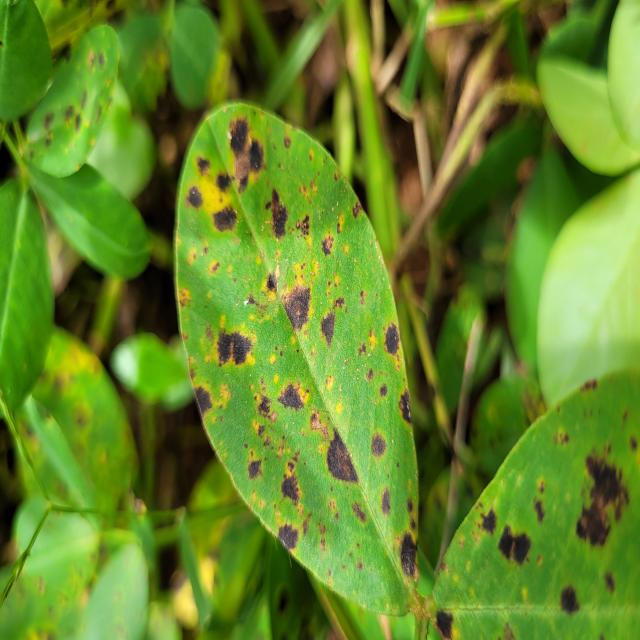Ground nut_healthy: (22, 151, 156, 280)
Ground nut_tikka leaf spot: (172, 98, 420, 622)
